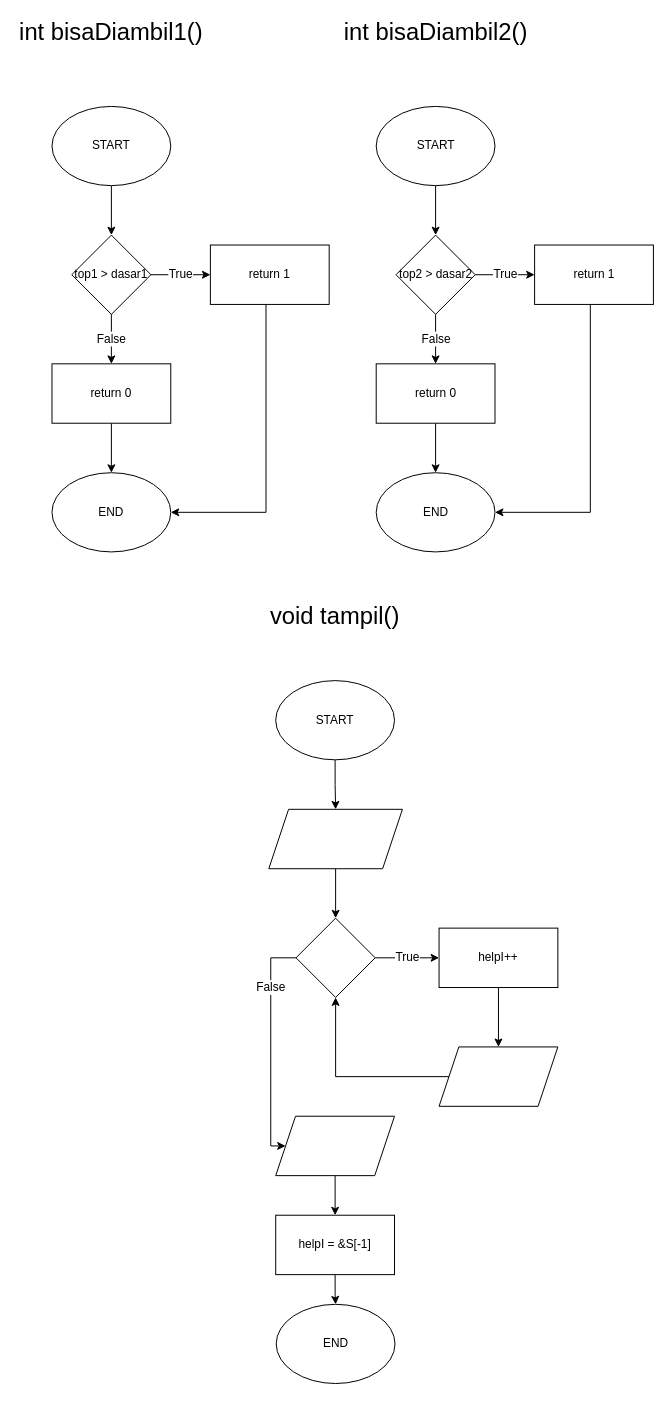
This 670x1401 diagram has some shape labels left out. Each missing label, with the centre of its shape:
helpI != (dasar2 -1): point (335, 957)
out "=====": point (335, 1145)
out "Data menjadi": point (335, 838)
out *helpI: point (498, 1076)
